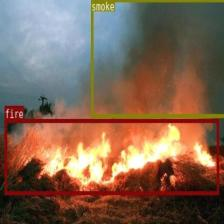fire: (4, 118, 218, 194)
smoke: (91, 0, 224, 117)
